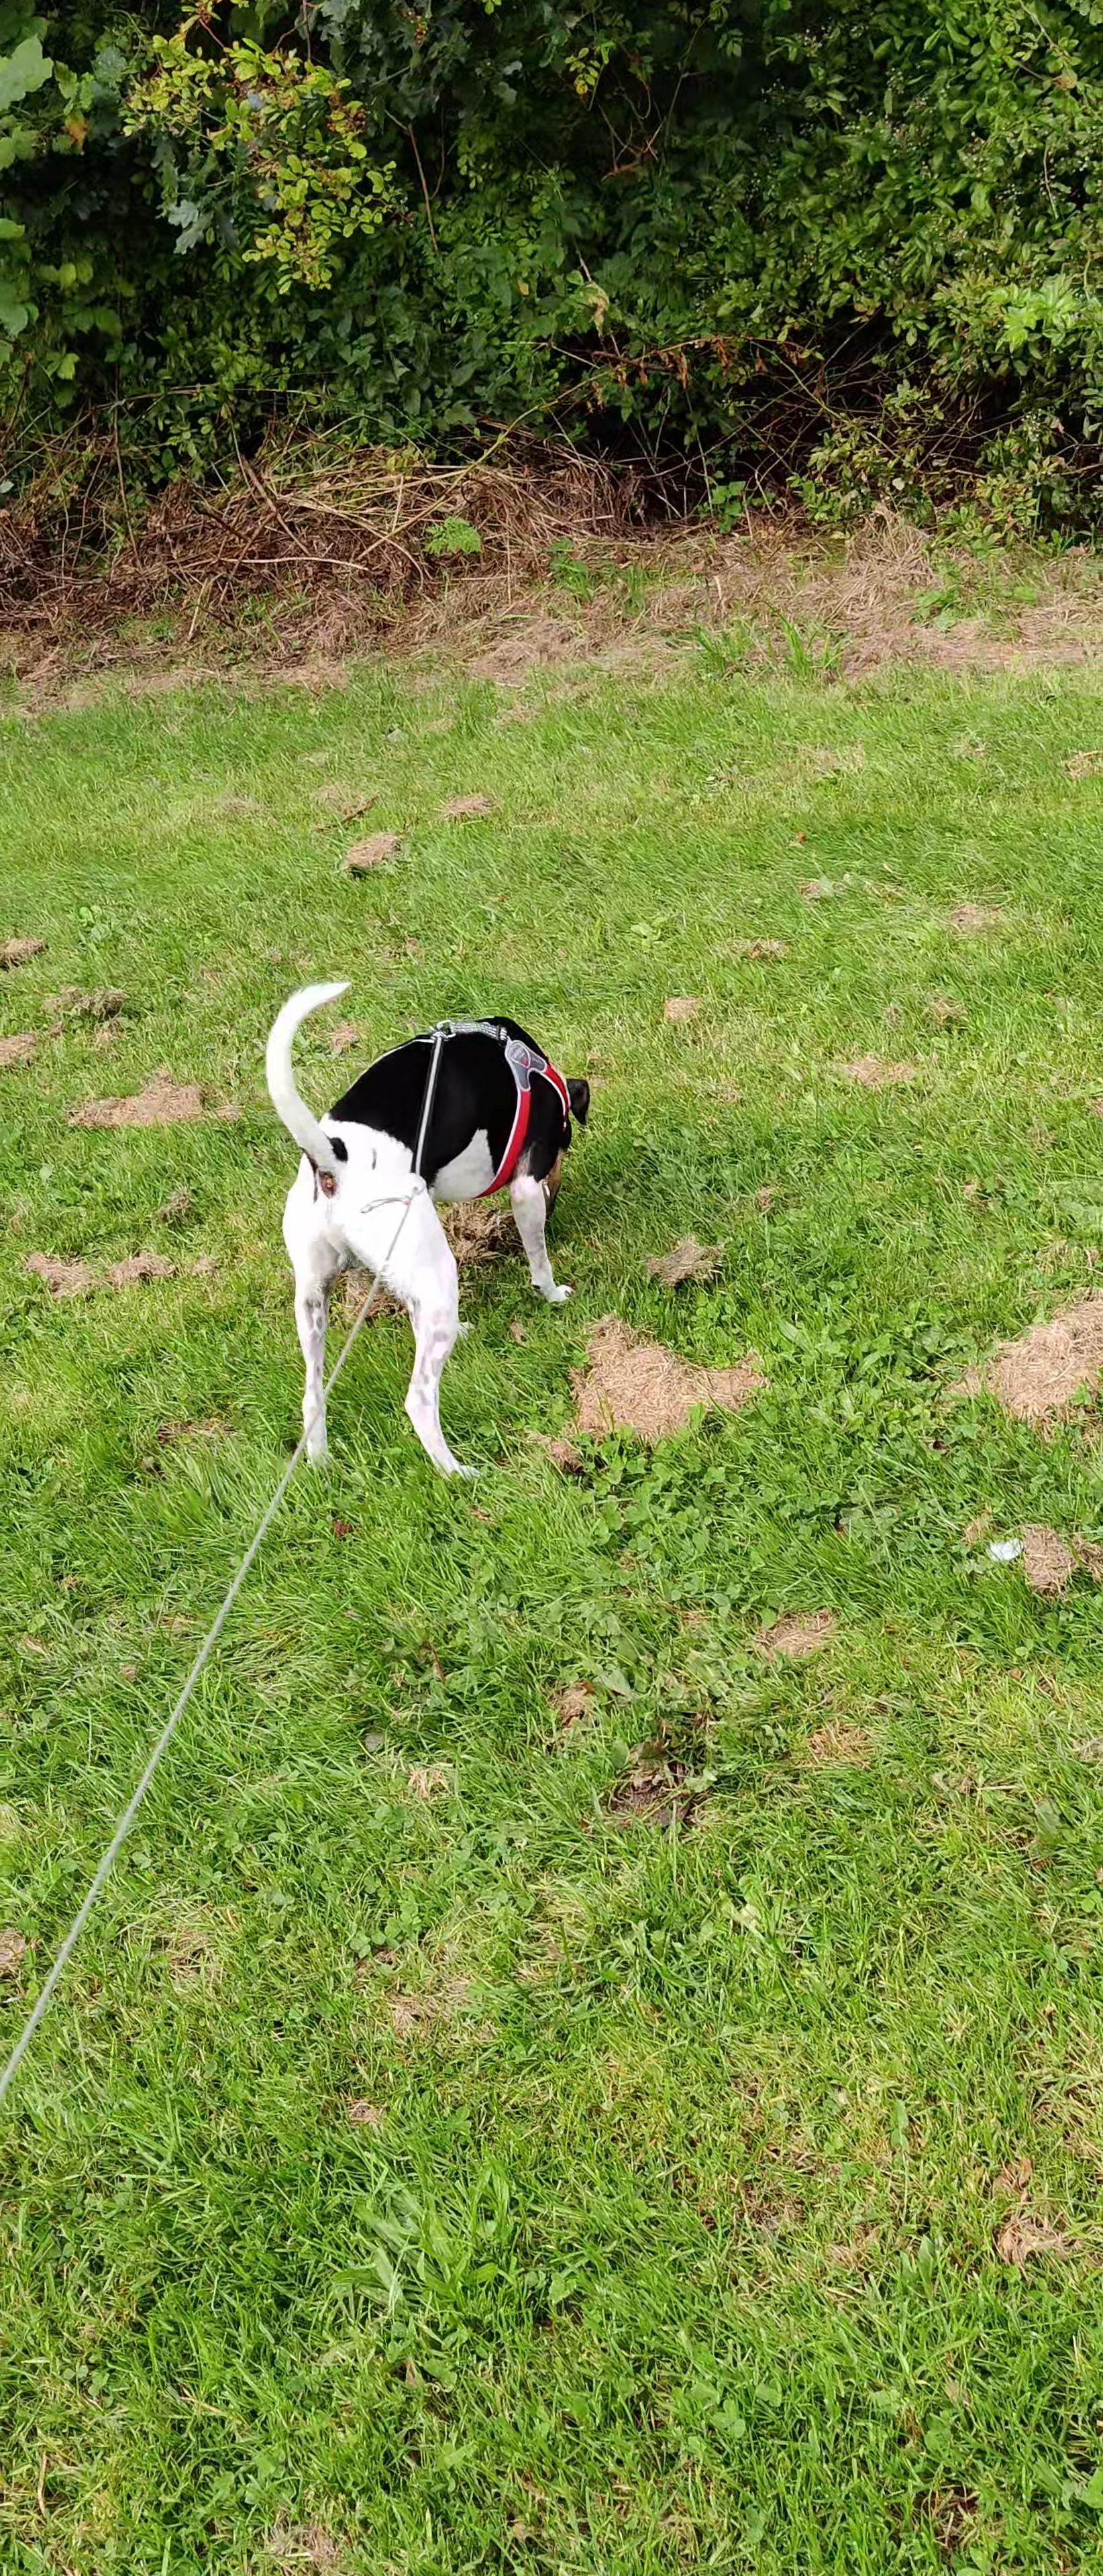Dog: (243, 969, 610, 1485)
